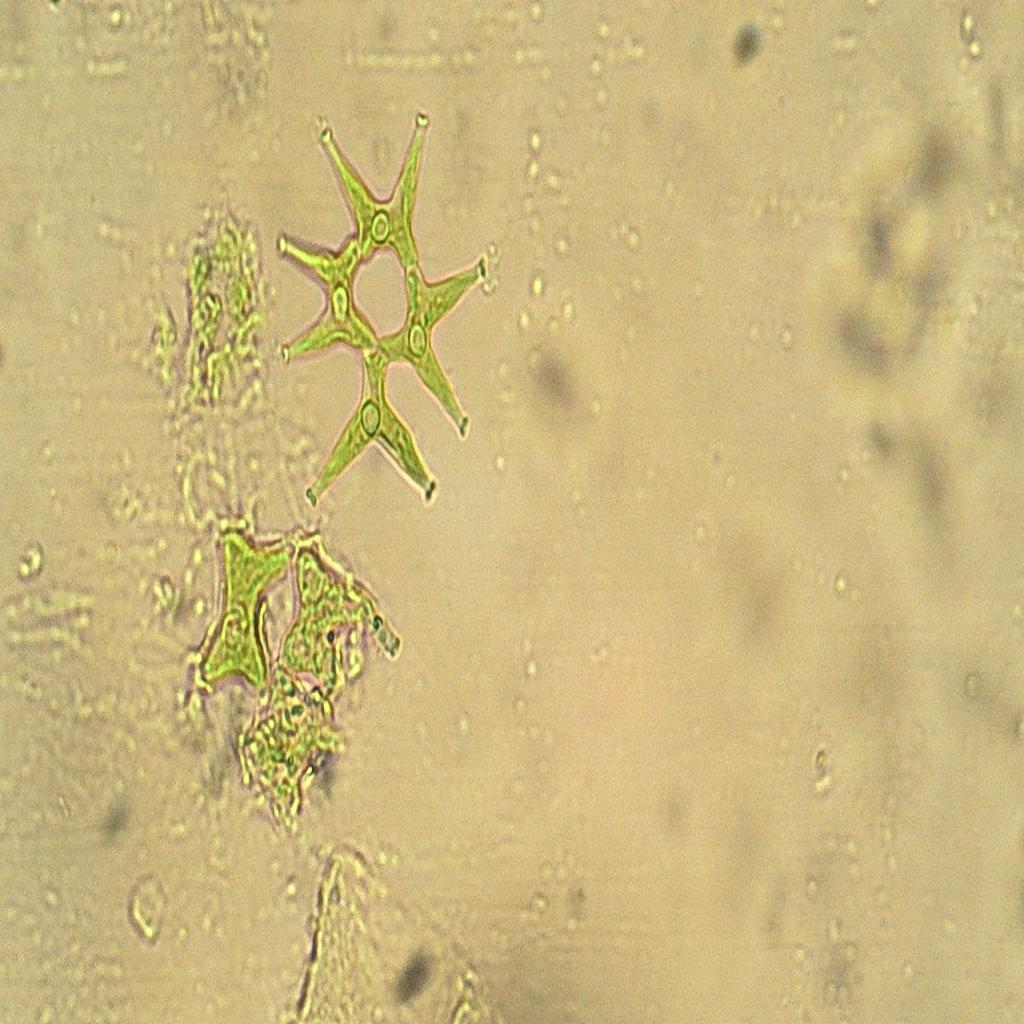Pediastrum_75FI: (271, 88, 496, 546)
